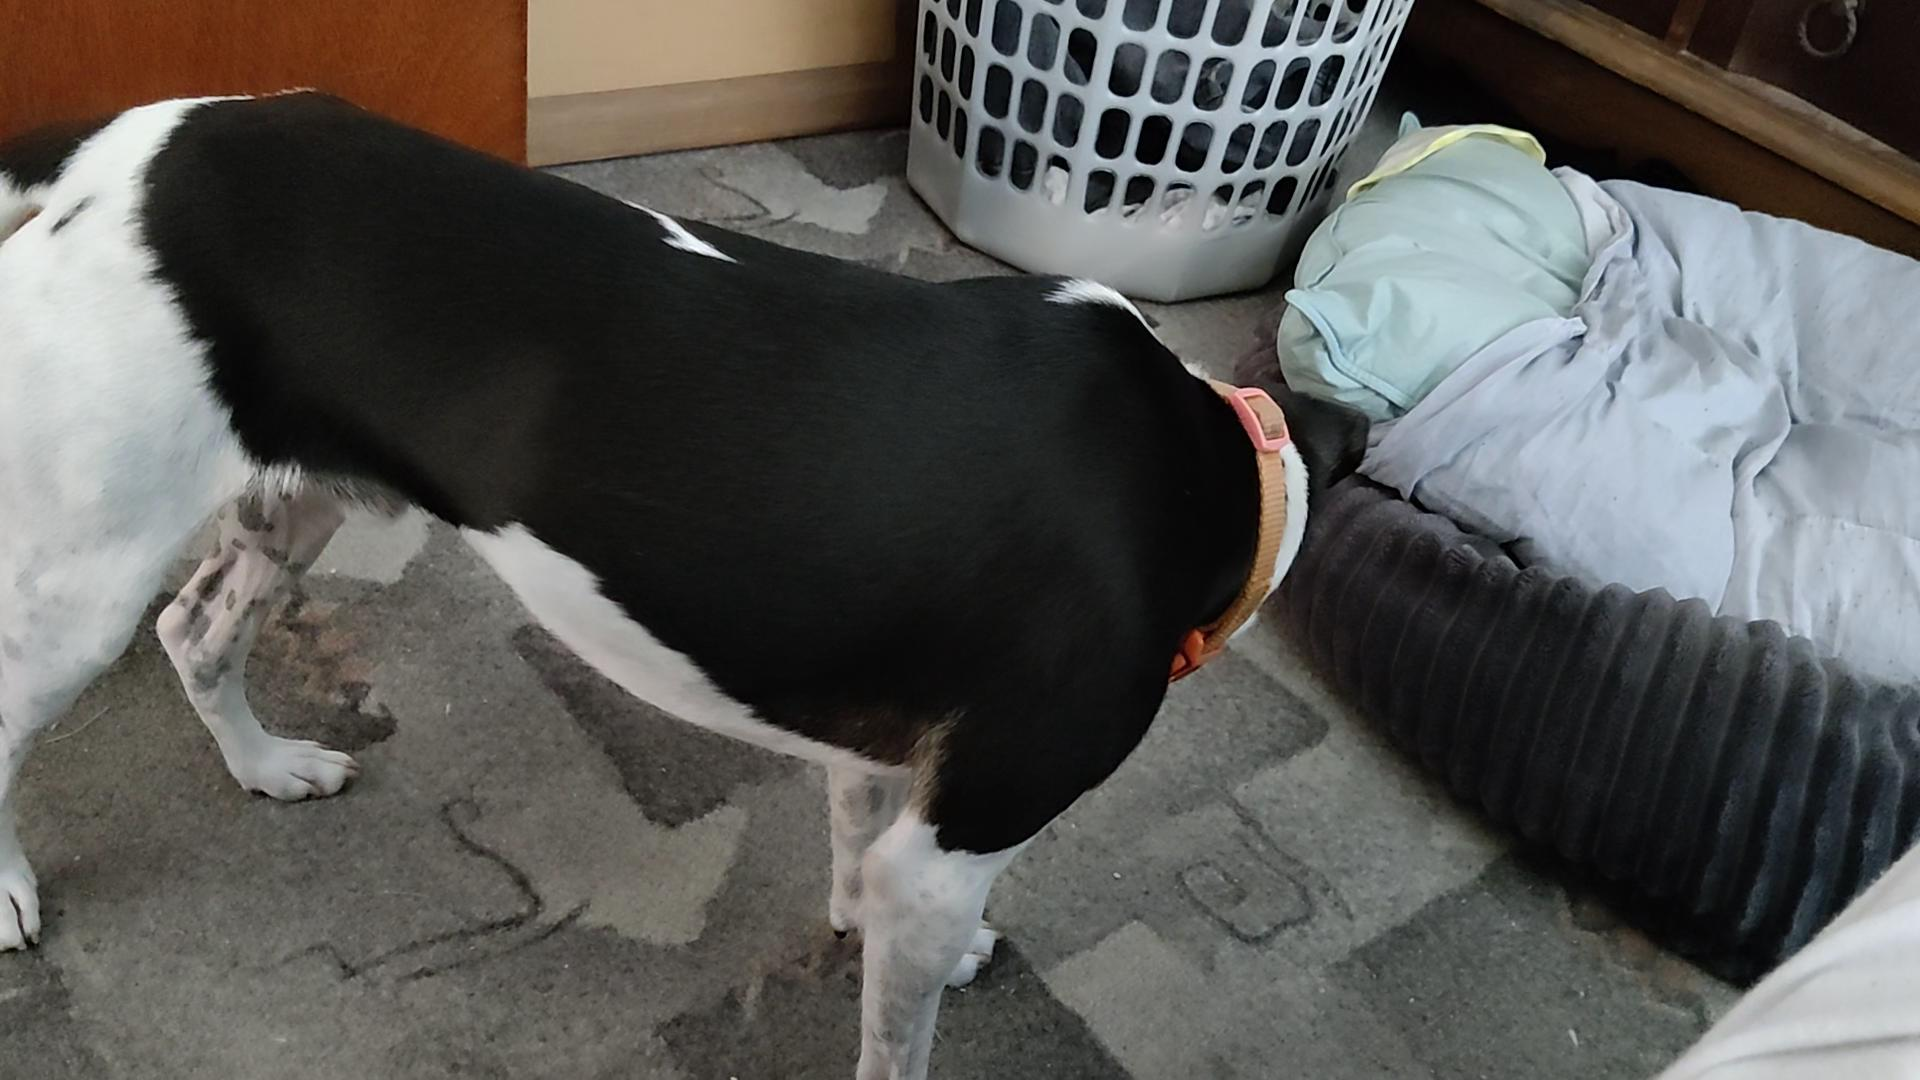Dog: (0, 80, 1375, 1079)
